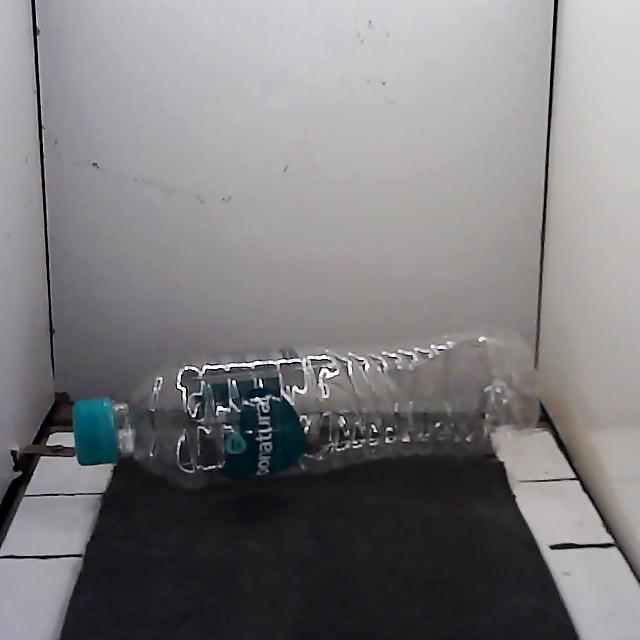plastico: (64, 333, 538, 487)
